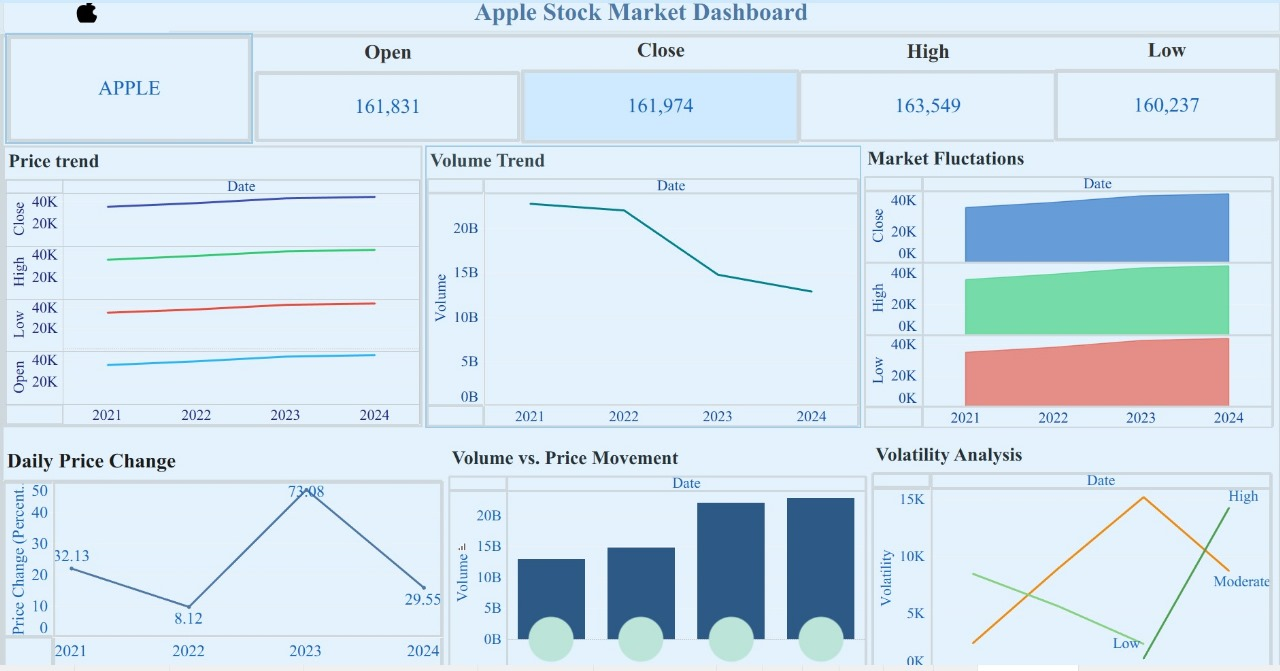

This screenshot's page, from the dashboard's own definition file:
{"tool":"tableau","page":{"name":"Dashboard 1","canvas":[1000,1000],"units":"permille","ordinal":0},"visuals":[{"type":"title","box":[5.6,8.5,988.9,63.2]},{"type":"worksheet","title":"ICON","mark":"Shape","rows":["Ticker"],"box":[8.6,10.4,126.5,59.4]},{"type":"worksheet","title":"Tinker","mark":"Automatic","box":[8.6,69.8,192,154.7]},{"type":"worksheet","title":"Close","mark":"Text","box":[406.8,73.6,216.1,150]},{"type":"worksheet","title":"Low","mark":"Automatic","box":[818.5,73.6,174.1,147.2]},{"type":"worksheet","title":"High","mark":"Automatic","box":[622.2,75.5,198.2,146.2]},{"type":"worksheet","title":"Open","mark":"Automatic","box":[201.2,76.4,205.6,145.3]},{"type":"worksheet","title":"Market Fluctuations ","mark":"Area","rows":["Close","High","Low"],"cols":["Date"],"box":[672.2,225.5,316.7,393.4]},{"type":"worksheet","title":"Price Trend","mark":"Automatic","rows":["Close","High","Low","Open"],"cols":["Date"],"box":[6.8,226.4,324.1,391.5]},{"type":"worksheet","title":"Volume Trend","mark":"Automatic","rows":["Volume"],"cols":["Date"],"box":[333.3,226.4,337,392.4]},{"type":"worksheet","title":"Volatility analysis","mark":"Line","rows":["Volatility"],"cols":["Date"],"box":[677.8,636.8,309.9,348.1]},{"type":"worksheet","title":"Volume vs. Price Movement","mark":"Automatic","rows":["Volume","Close"],"cols":["Date"],"box":[351.2,641.5,323.5,339.6]},{"type":"worksheet","title":"Daily Price Change","mark":"Automatic","rows":["Calculation_3833126248843493378"],"cols":["Date"],"box":[6.8,644.3,340.7,337.7]}]}

Visuals, with their boxes on the dashboard's canvas, which has no fixed pixel size, in thousandths of its width and height (x1, y1, x2, y2). These are canvas units, not pixel positions in the 1280x671 screenshot, which may show the page scaled, cropped or inside an application window:
title: region(6, 8, 994, 72)
"ICON" worksheet (Shape marks): region(9, 10, 135, 70)
"Tinker" worksheet: region(9, 70, 201, 224)
"Close" worksheet (Text marks): region(407, 74, 623, 224)
"Low" worksheet: region(818, 74, 993, 221)
"High" worksheet: region(622, 76, 820, 222)
"Open" worksheet: region(201, 76, 407, 222)
"Market Fluctuations " worksheet (Area marks): region(672, 226, 989, 619)
"Price Trend" worksheet: region(7, 226, 331, 618)
"Volume Trend" worksheet: region(333, 226, 670, 619)
"Volatility analysis" worksheet (Line marks): region(678, 637, 988, 985)
"Volume vs. Price Movement" worksheet: region(351, 642, 675, 981)
"Daily Price Change" worksheet: region(7, 644, 348, 982)
